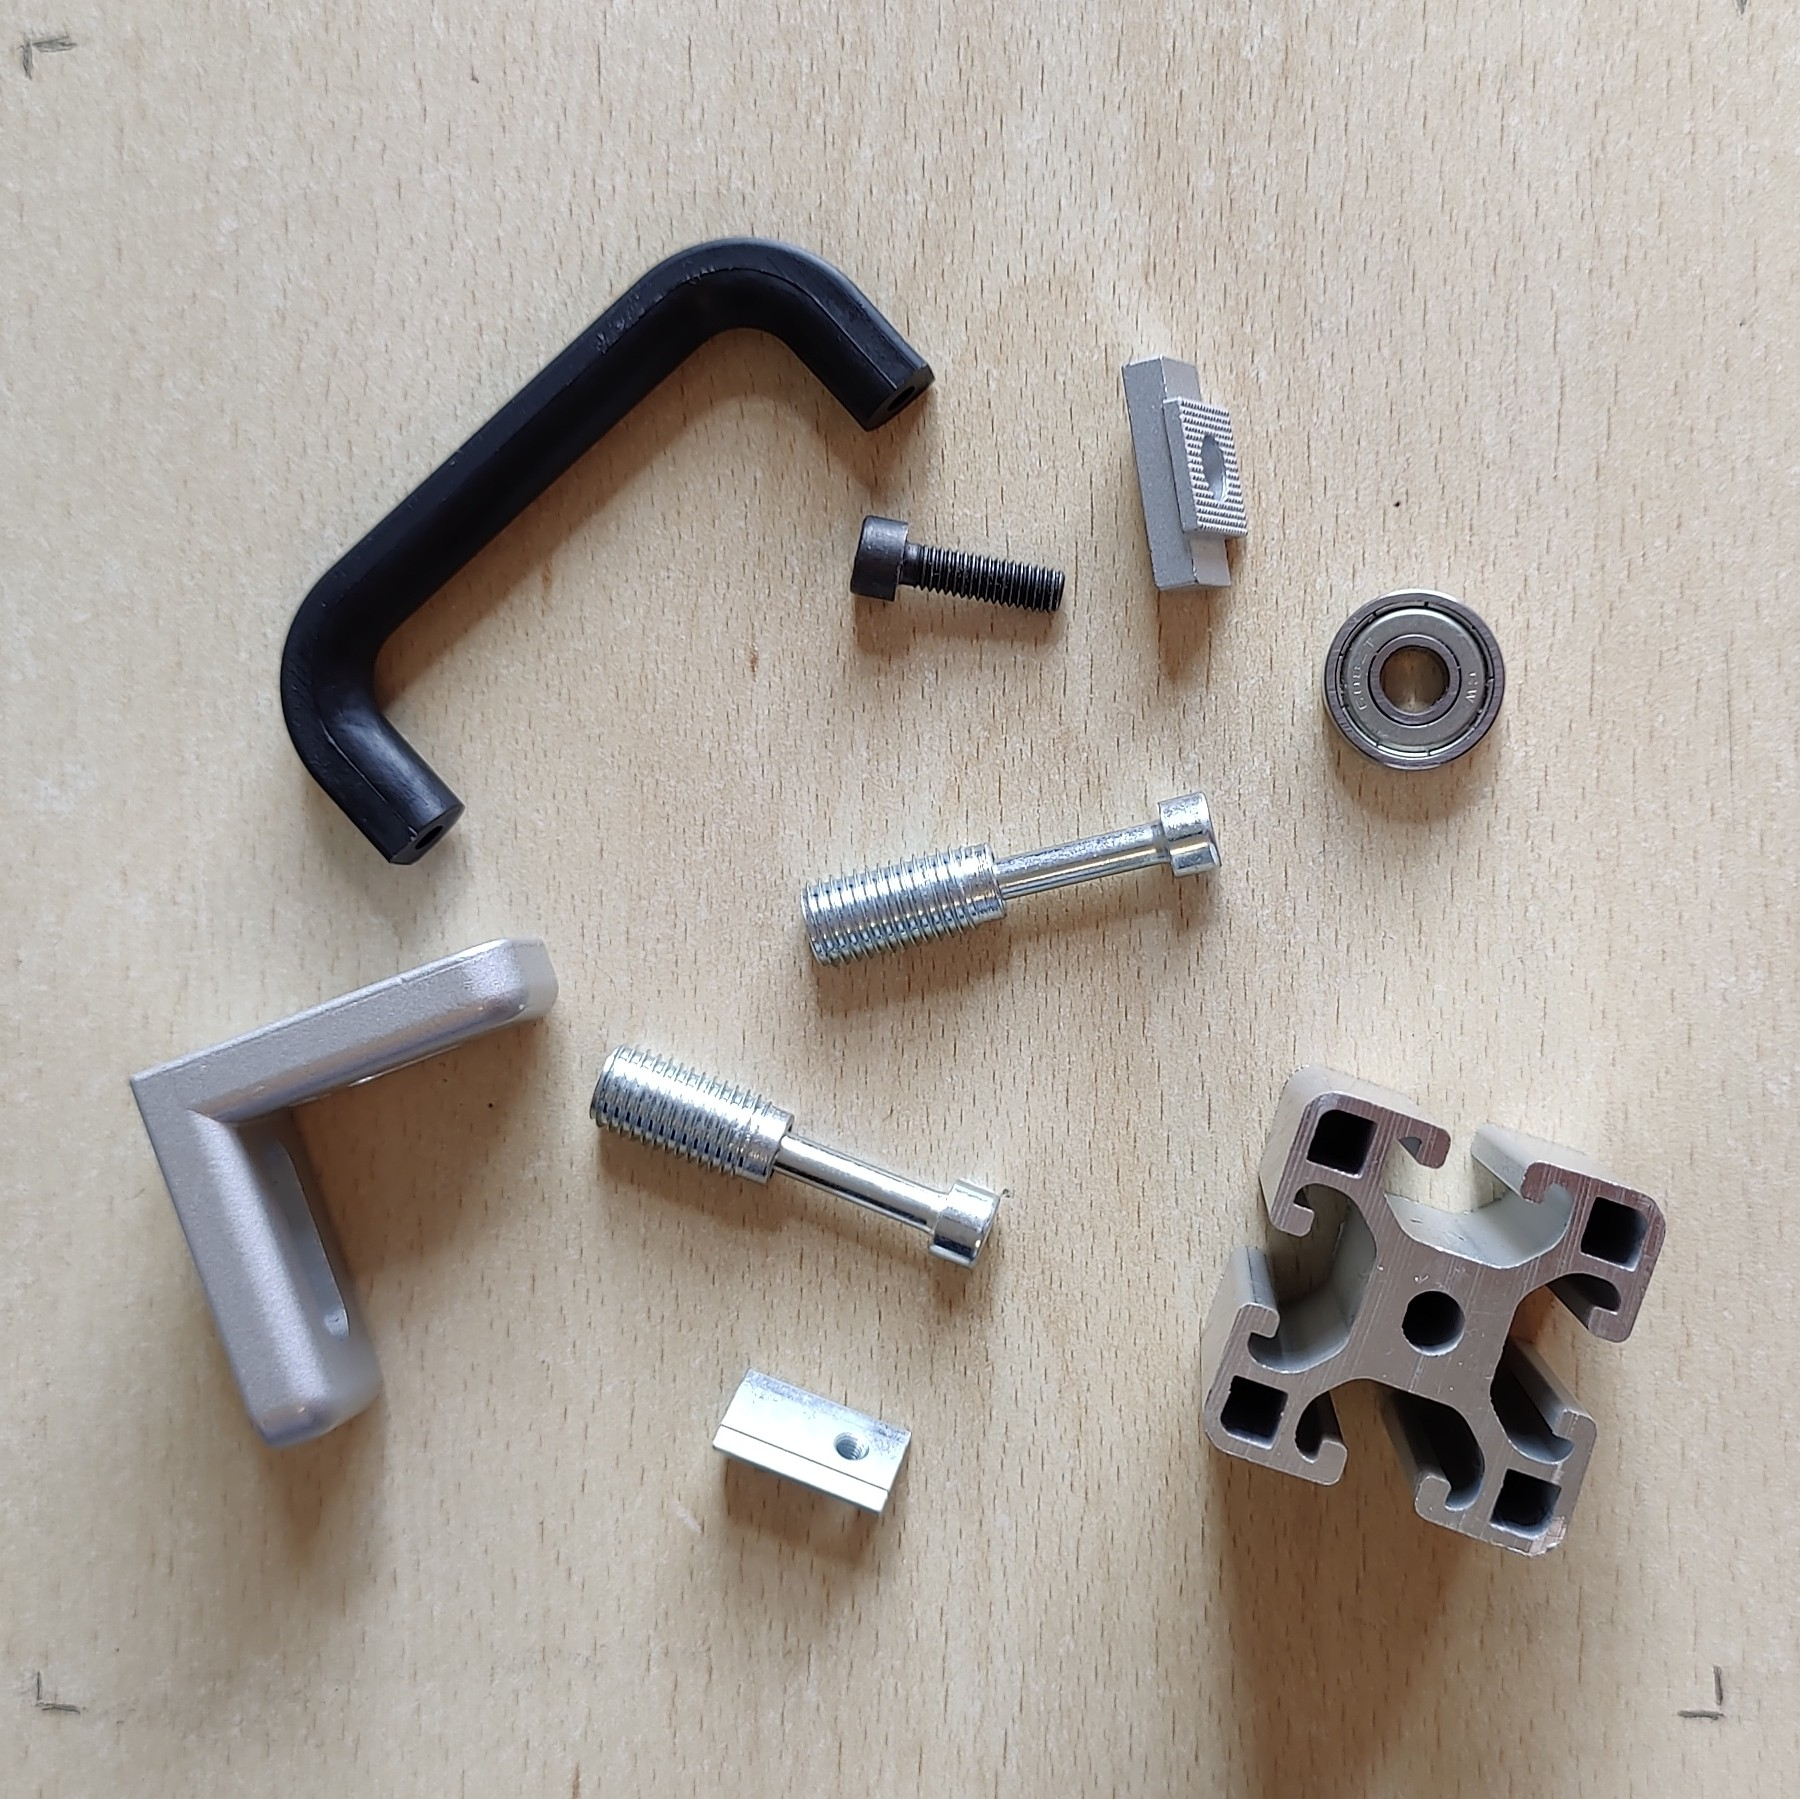Aluminium Extension: (1197, 1058, 1670, 1563)
Ball Bearing: (1321, 583, 1509, 778)
Multiwinkel: (125, 932, 562, 1455)
Pull Handle: (275, 231, 935, 868)
Shoulder Socket Head Cap Screw: (586, 1040, 1005, 1275), (795, 784, 1224, 975)
Socket Head Cap Screw: (846, 511, 1069, 618)
T Nut Square: (1117, 354, 1253, 603)
T Spring Nut: (706, 1364, 916, 1522)
